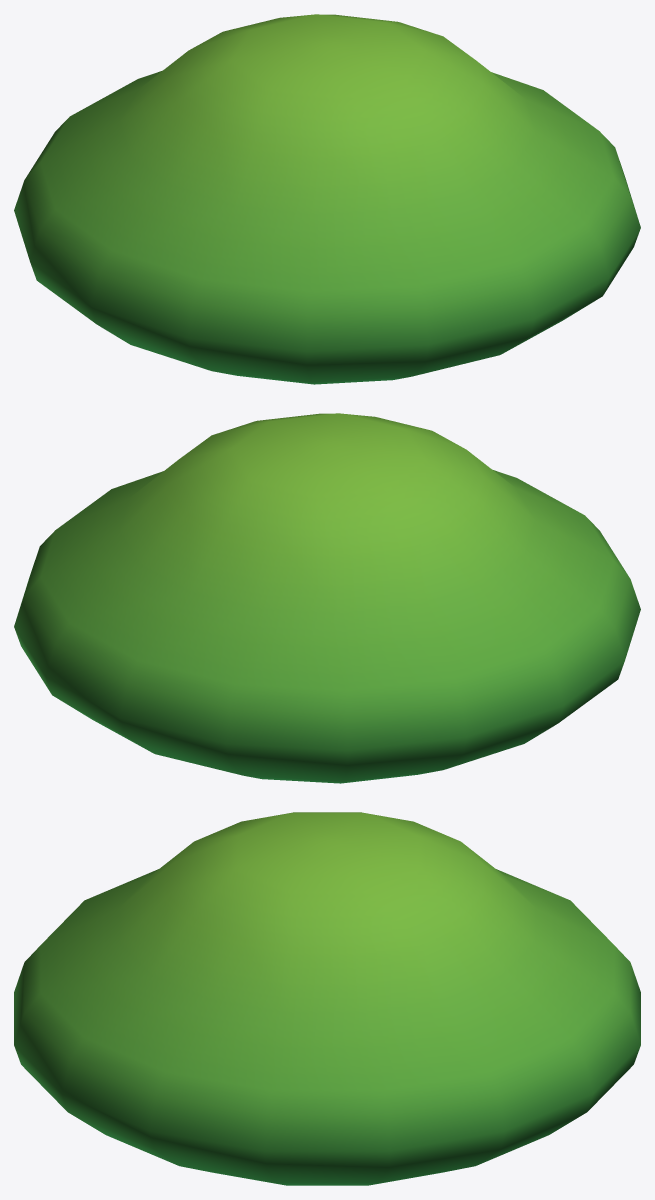
Rendered from Bush_3_C_Color1.fbx.
3 views of the same model, one above another, from view 1: azimuth 30°, elevation 25°; view 2: azimuth 150°, elevation 25°; view 3: azimuth 270°, elevation 25° (orthographic).
Visible parts, largest first — view 1: Bush_3_C_Color1; view 2: Bush_3_C_Color1; view 3: Bush_3_C_Color1.
Boxes of the visible parts, x1,y1,x2,y2 form: Bush_3_C_Color1: [14, 14, 640, 384]; Bush_3_C_Color1: [14, 413, 640, 783]; Bush_3_C_Color1: [14, 812, 640, 1185].
Bounding box in the file's own units: 2.49 × 1.15 × 2.49.
